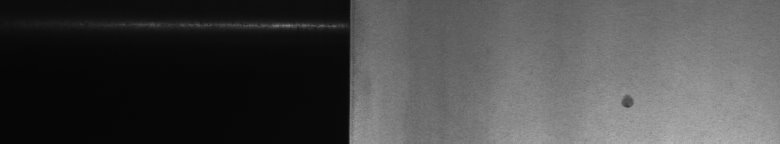fi: (616, 88, 639, 116)
